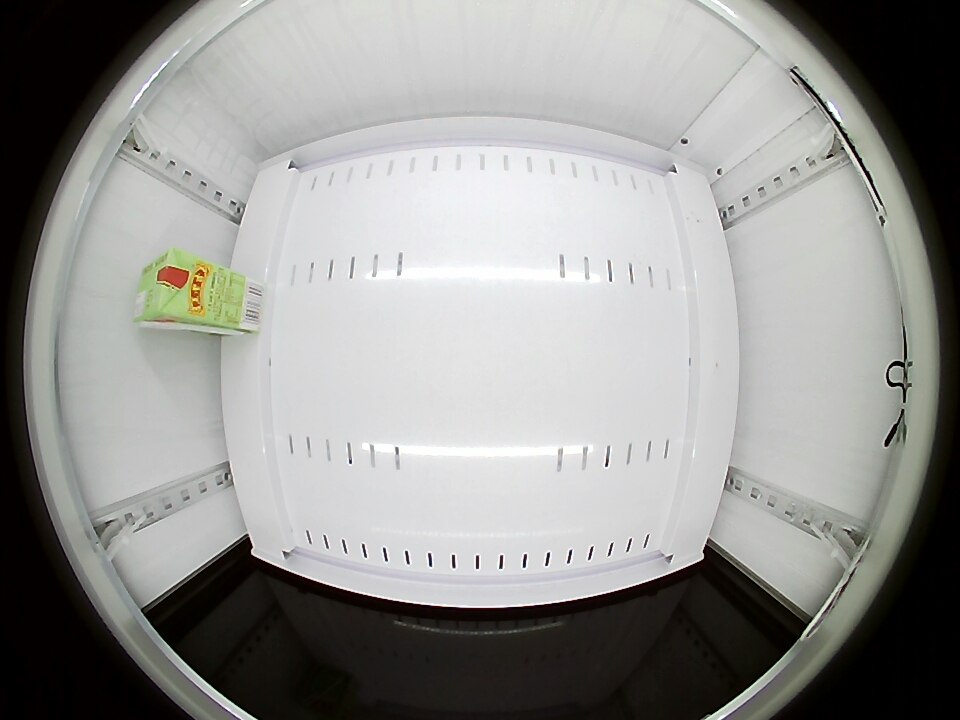wanglaoji: (135, 247, 205, 328)
